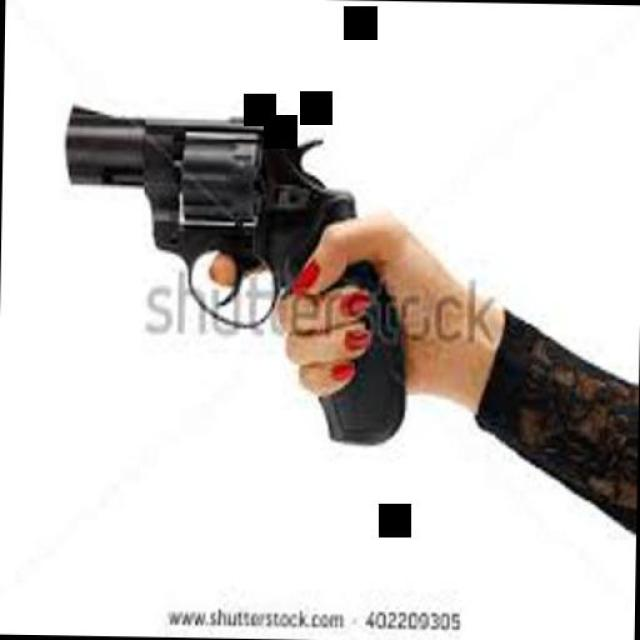gun: (49, 96, 414, 455)
